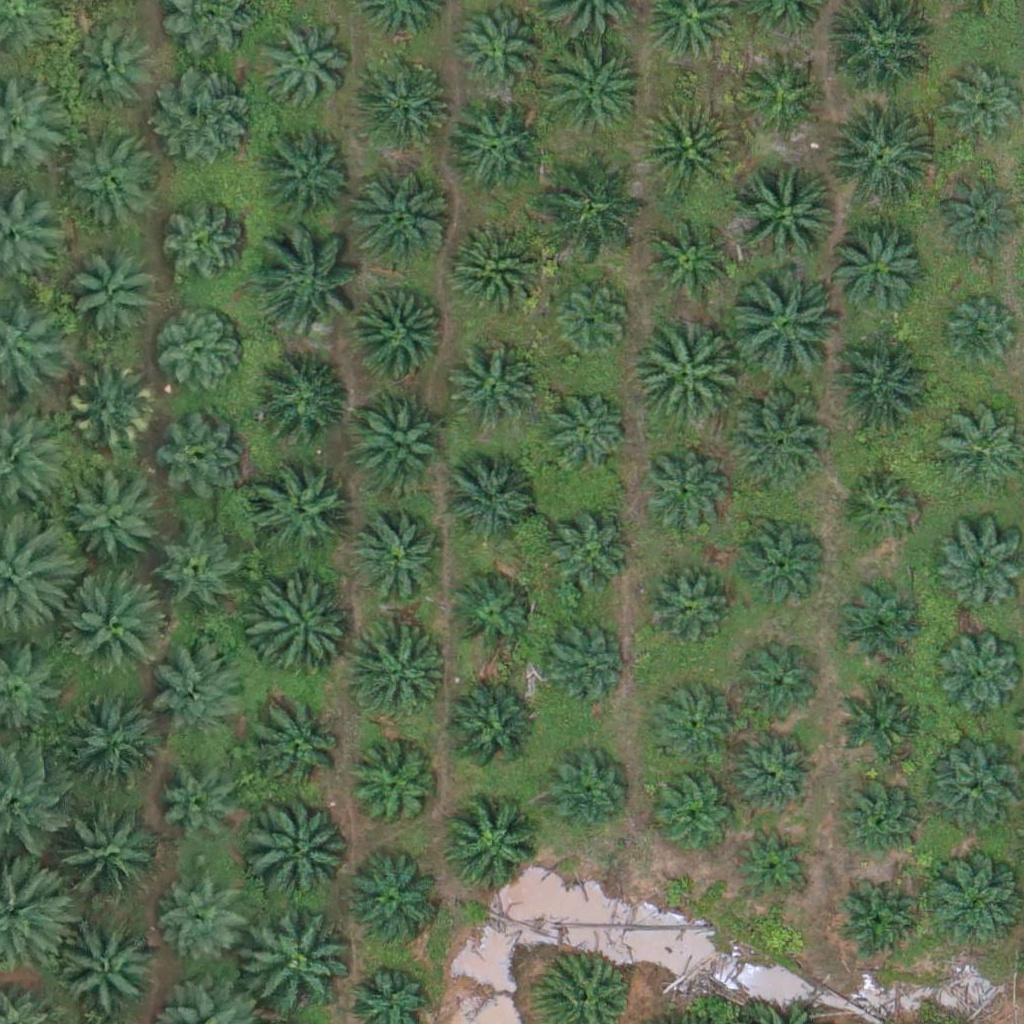Kelapa_Sawit: (47, 803, 160, 917), (819, 337, 932, 450), (728, 274, 841, 387), (254, 230, 367, 343), (240, 905, 353, 1018), (539, 146, 652, 259), (246, 790, 358, 904), (734, 159, 846, 273), (628, 318, 740, 431), (60, 572, 172, 685), (538, 35, 650, 148), (821, 102, 933, 215), (828, 224, 928, 325), (725, 391, 825, 492), (442, 220, 542, 321), (444, 449, 544, 550), (440, 681, 540, 782), (441, 797, 541, 898), (350, 625, 450, 726), (254, 353, 354, 454), (250, 465, 350, 566), (250, 581, 350, 682), (59, 919, 159, 1020), (65, 470, 165, 571), (60, 129, 160, 230), (158, 66, 258, 167), (254, 16, 354, 117), (258, 125, 358, 226), (352, 168, 452, 269), (447, 100, 547, 201), (637, 99, 737, 200), (923, 851, 1023, 951), (349, 287, 449, 387), (350, 392, 450, 492), (343, 853, 443, 953), (252, 697, 352, 797), (153, 641, 253, 741), (60, 697, 160, 797), (359, 55, 459, 155), (550, 277, 638, 365), (539, 384, 627, 472), (543, 512, 631, 600), (536, 614, 624, 702), (638, 562, 726, 650), (736, 517, 824, 605), (835, 880, 923, 968), (837, 463, 925, 551), (452, 345, 540, 433), (352, 747, 440, 835), (644, 220, 732, 308), (742, 44, 830, 132), (935, 177, 1023, 265), (543, 749, 630, 837), (653, 766, 740, 854), (649, 681, 736, 769), (640, 445, 727, 533), (734, 642, 821, 730), (735, 726, 822, 814), (833, 770, 920, 858), (841, 673, 928, 761), (833, 576, 920, 664), (448, 567, 535, 655), (357, 511, 444, 599), (160, 205, 247, 293), (157, 314, 244, 402), (160, 413, 247, 501), (157, 530, 244, 618), (157, 774, 244, 862), (162, 879, 249, 967), (67, 366, 154, 454), (66, 251, 153, 339), (65, 27, 152, 115), (454, 2, 541, 90), (943, 298, 1018, 374), (736, 823, 811, 899)
